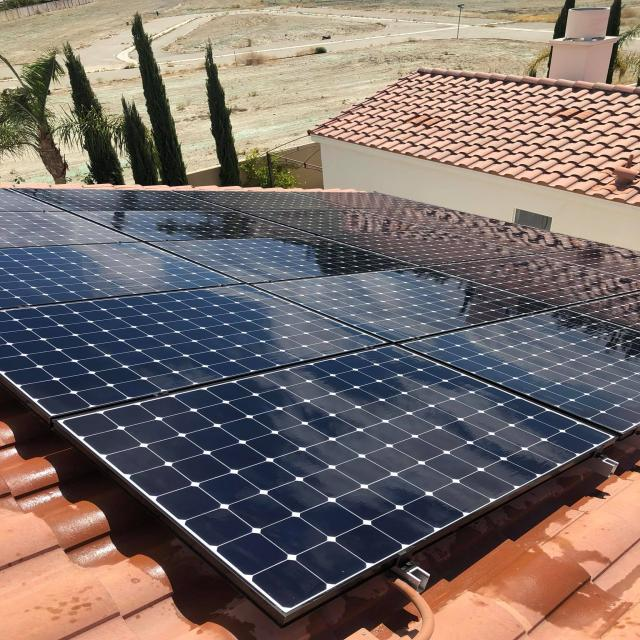clean-solar-panel: (0, 185, 638, 624)
